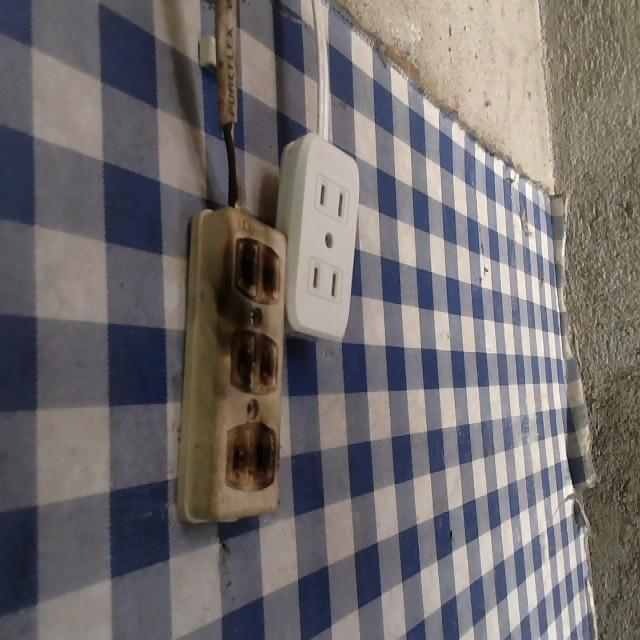-: (224, 322, 284, 398), (223, 416, 279, 493), (232, 231, 280, 304)
